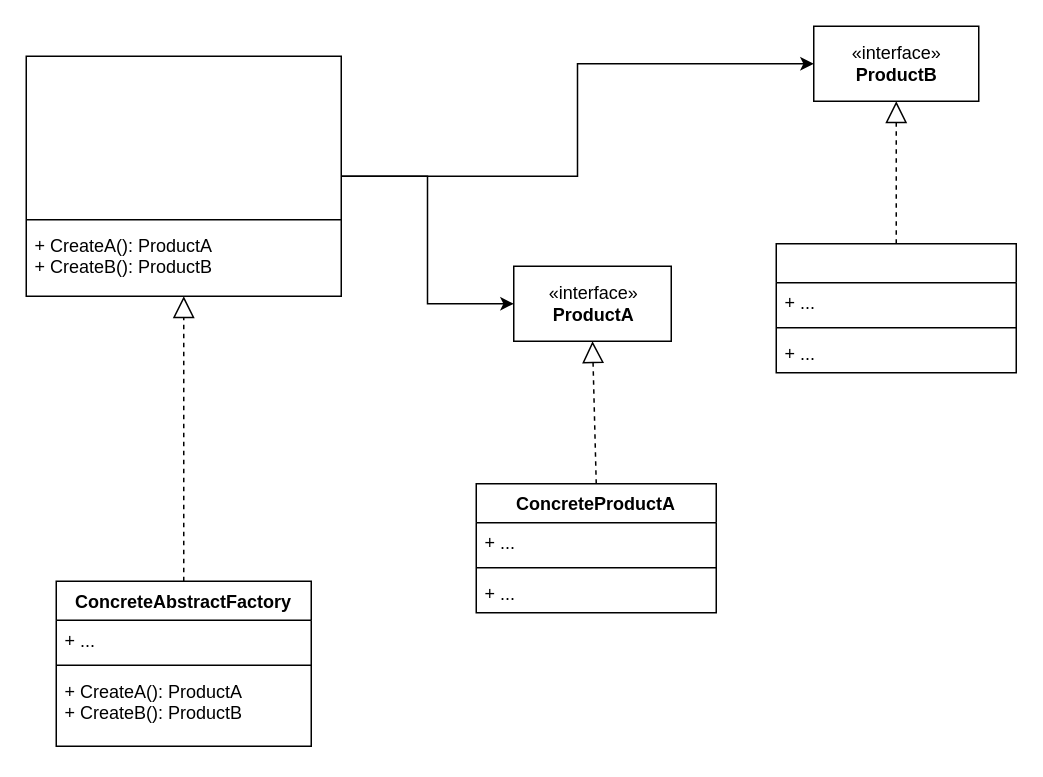
Some shapes in this 1043 by 777 pixel diagram are drawn without their labels. Each missing label, with the box of its shape:
ConcreteProductB: (775, 242, 1016, 373)
«interface» AbstractFactory: (25, 55, 341, 296)
